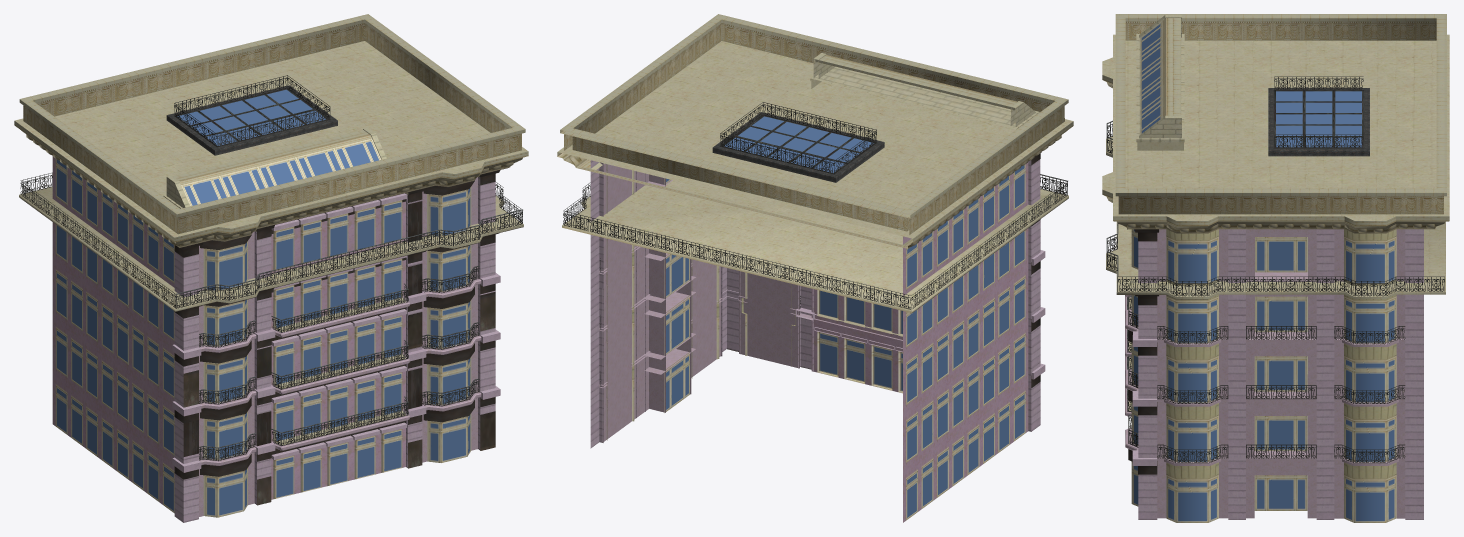
The model's file is BuilA_high.fbx.
The picture shows the model from 3 angles, left to right: view 1: azimuth 30°, elevation 25°; view 2: azimuth 150°, elevation 25°; view 3: azimuth 270°, elevation 25°; orthographic projection. The views are drawn at different scales.
Parts seen in each view (by area): view 1: ct2_03_n1_ym2_builD_high01; view 2: ct2_03_n1_ym2_builD_high01; view 3: ct2_03_n1_ym2_builD_high01.
Boxes of the visible parts, x1,y1,x2,y2 form: ct2_03_n1_ym2_builD_high01: [14, 14, 528, 522]; ct2_03_n1_ym2_builD_high01: [557, 14, 1073, 522]; ct2_03_n1_ym2_builD_high01: [1102, 14, 1449, 522].
Bounding box in the file's own units: 2562 × 2229 × 2017.
